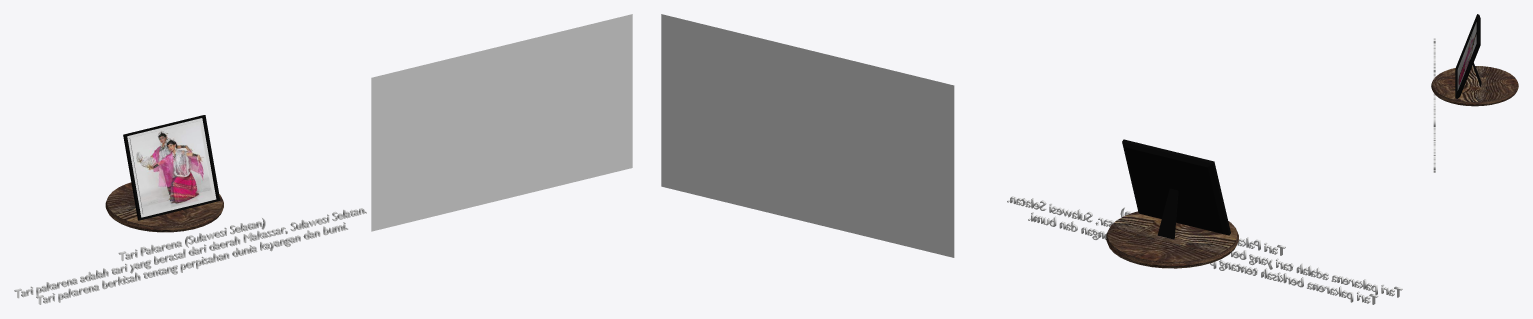
Rendered from 28. Tari Pakarena (Sulawesi selatan).fbx.
3 views of the same model, side by side, from view 1: azimuth 30°, elevation 25°; view 2: azimuth 150°, elevation 25°; view 3: azimuth 270°, elevation 25° (orthographic). The views are drawn at different scales.
Visible parts, largest first — view 1: Plane, Cube.027, Text.001; view 2: Plane, Cube.027, Text.001; view 3: Cube.027, Text.001.
Part boxes in pixels (<box>): Plane: <box>371,14,632,231</box>; Cube.027: <box>105,115,223,232</box>; Text.001: <box>14,208,366,304</box>; Plane: <box>661,14,954,257</box>; Cube.027: <box>1106,139,1238,268</box>; Text.001: <box>1007,196,1402,304</box>; Cube.027: <box>1431,14,1518,106</box>; Text.001: <box>1433,38,1435,172</box>.
Bounding box in the file's own units: 7824 × 1800 × 1260.
Materials: 6 (3 with a texture image).
